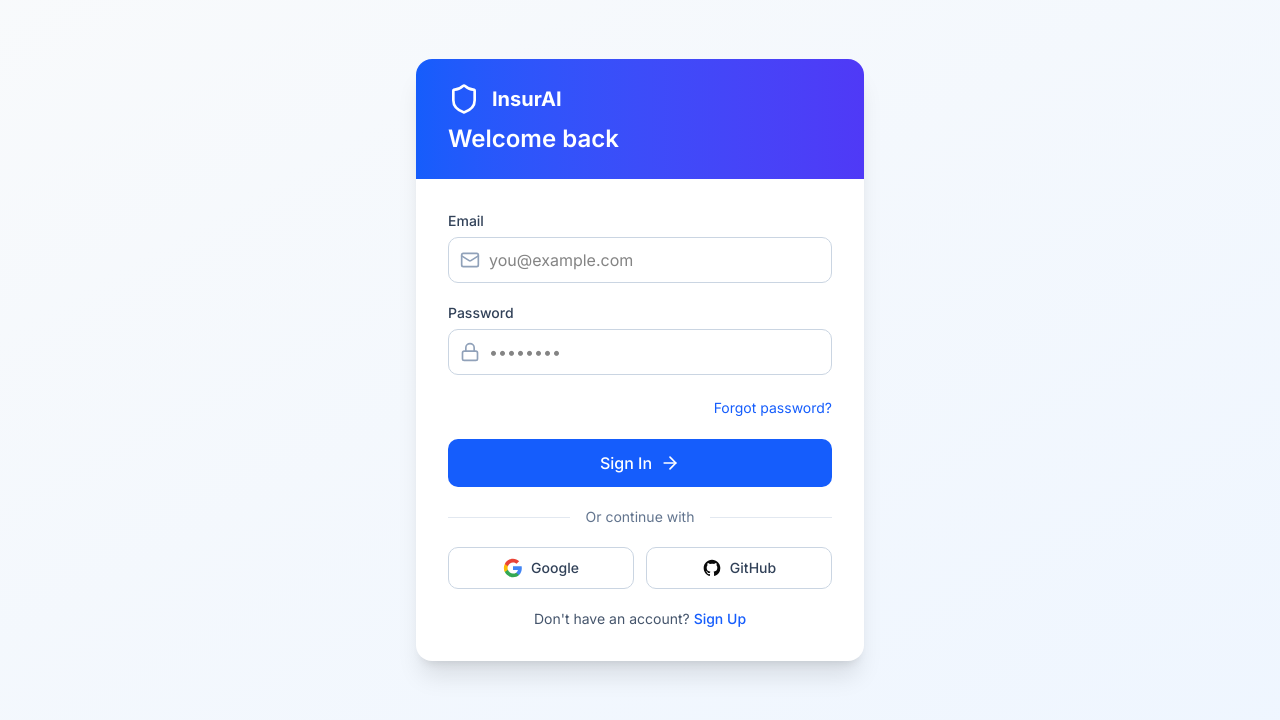
Scenario: AuthPage › Sign In Mode › should show validation error for short password
Step 1. Type "test@example.com" into the field with placeholder "you@example.com" → (640, 260), box [448, 237, 832, 283]
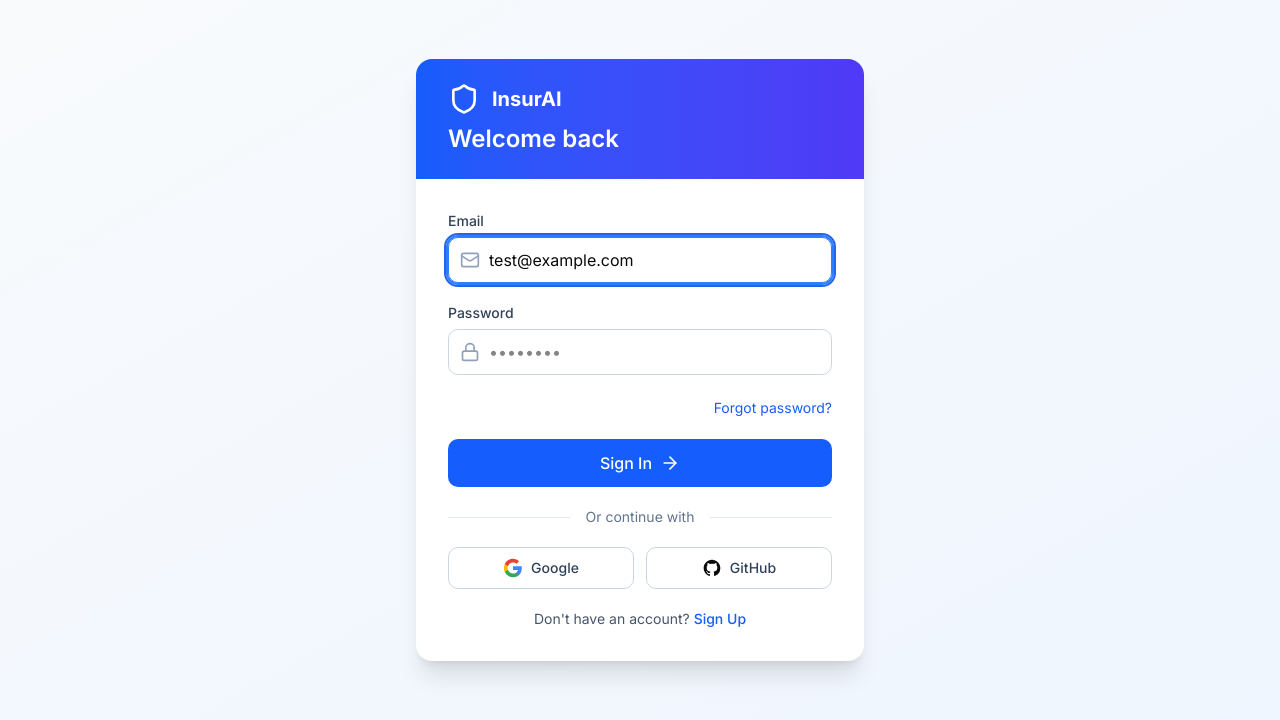
Step 2. Type "123" into the password field with placeholder "••••••••" → (640, 352), box [448, 329, 832, 375]
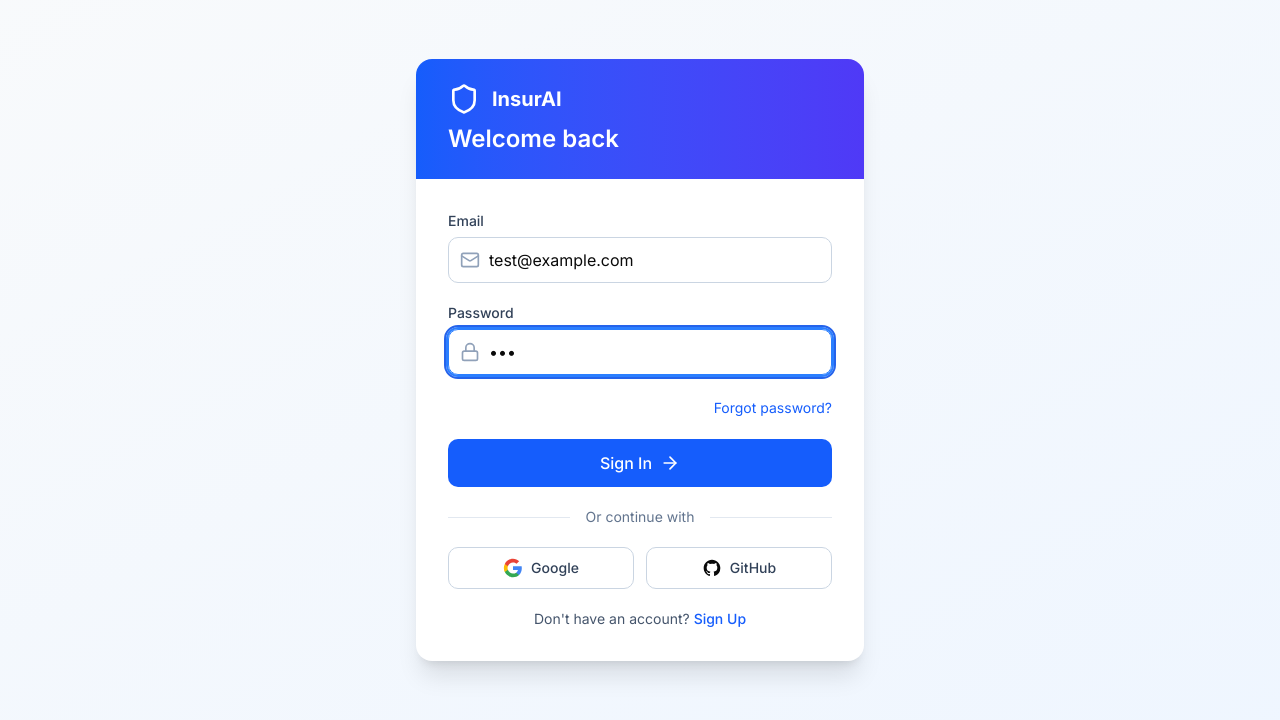
Step 3. Click the button "Sign In" → (640, 463), box [448, 439, 832, 487]
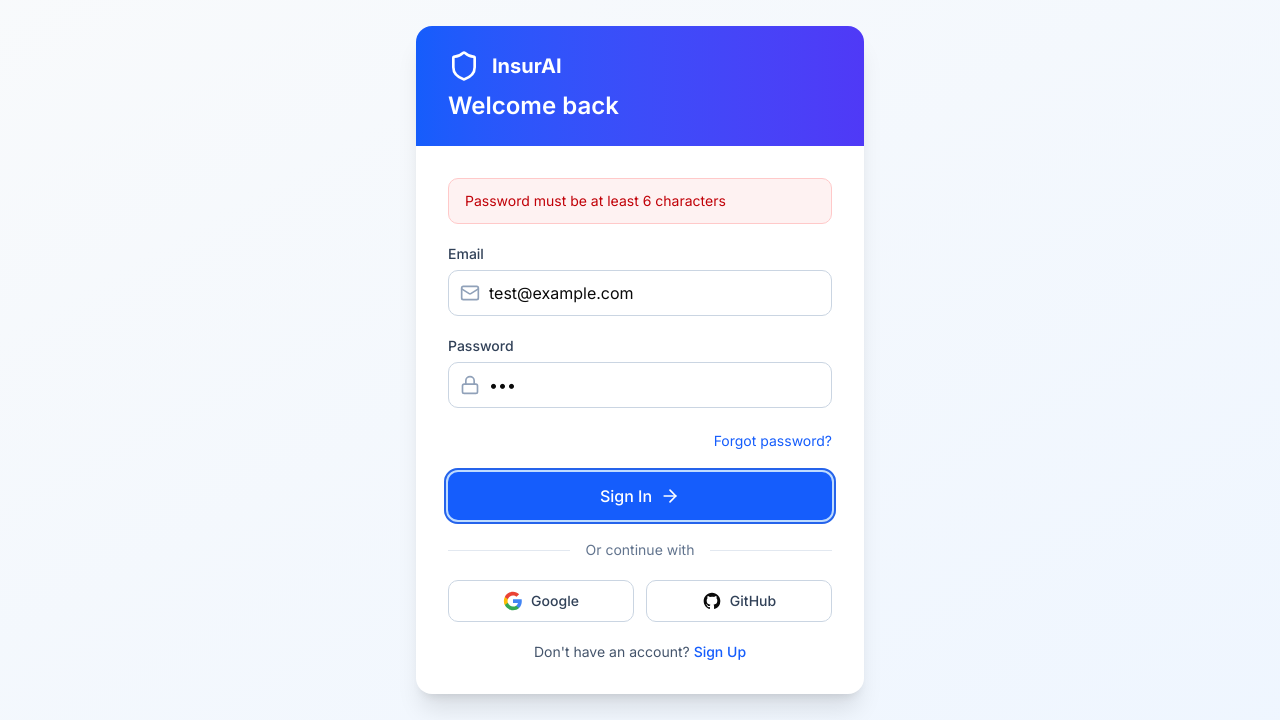
Check: the text "Password must be at least 6 characters" is shown, box [448, 178, 832, 224]
